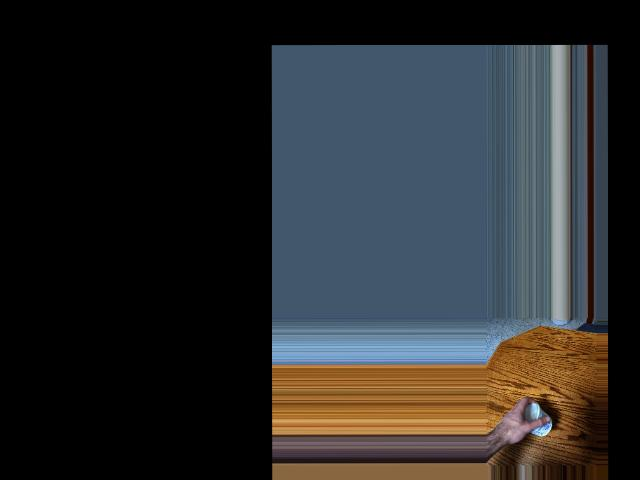cotage: (518, 401, 550, 439)
